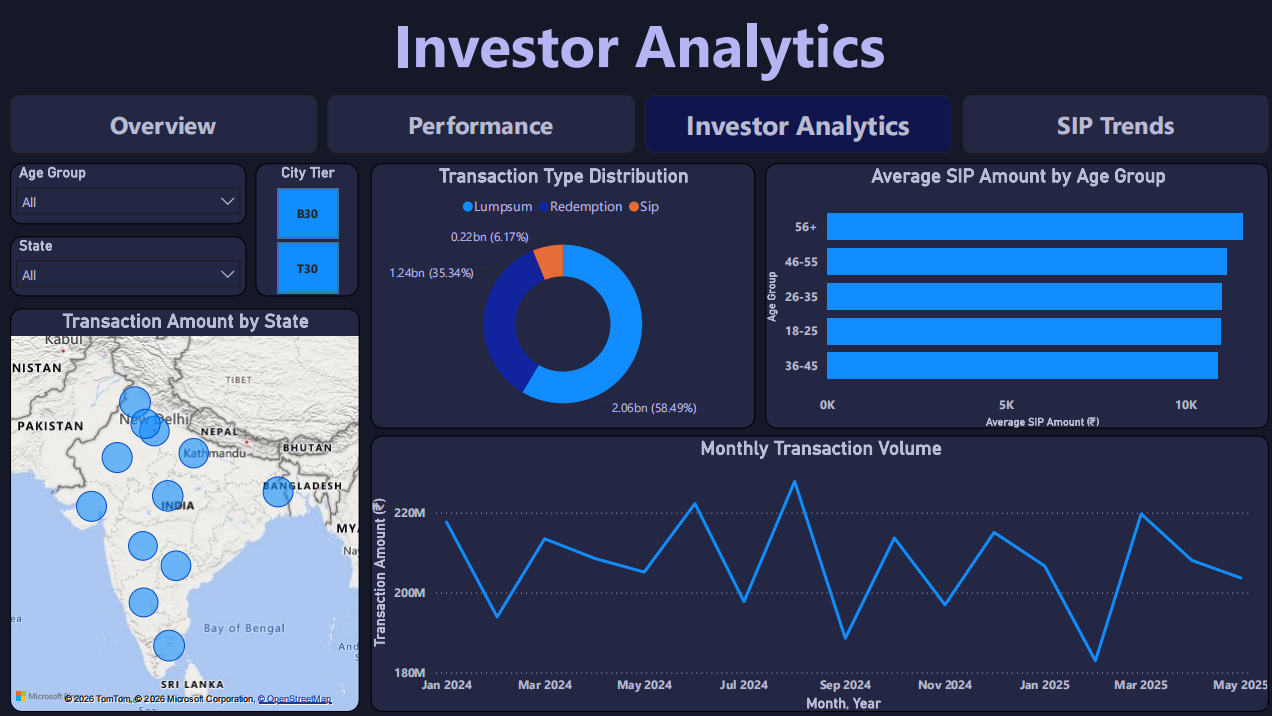

Layout of this report page (visuals, bound fields, positions):
{"tool":"powerbi","page":{"name":"Investor Analytics","canvas":[1280,720],"ordinal":2},"visuals":[{"type":"textbox","box":[98.6,0,1083.1,95.7],"z":0},{"type":"pageNavigator","box":[12.3,95.7,1257.7,58],"z":1000},{"type":"map","title":"Transaction Amount by State","fields":{"Category":["public fact_transactions.state"],"Size":["Sum(public fact_transactions.amount_inr)"]},"box":[12.3,309.2,348.5,402.5],"z":2000},{"type":"donutChart","title":"Transaction Type Distribution","fields":{"Category":["public fact_transactions.transaction_type"],"Y":["Sum(public fact_transactions.amount_inr)"]},"box":[371.8,164.4,384.1,265],"z":3000},{"type":"clusteredBarChart","title":"Average SIP Amount by Age Group","fields":{"Category":["public fact_transactions.age_group"],"Y":["Avg(public fact_transactions.amount_inr)"]},"box":[765.6,164.4,504.3,265],"z":4000},{"type":"lineChart","title":"Monthly Transaction Volume","fields":{"Category":["public fact_transactions.transaction_date.Variation.Date Hierarchy.Year","public fact_transactions.transaction_date.Variation.Date Hierarchy.Month"],"Y":["Sum(public fact_transactions.amount_inr)"]},"box":[371.8,435.6,898.2,276.1],"z":5000},{"type":"slicer","fields":{"Values":["public fact_transactions.state"]},"box":[12.3,236.8,235.6,60.1],"z":6000},{"type":"slicer","fields":{"Values":["public fact_transactions.age_group"]},"box":[12.3,164.4,235.6,60.1],"z":7000},{"type":"slicer","title":"City Tier","fields":{"Values":["public fact_transactions.city_tier"]},"box":[257,164.4,103.1,132.5],"z":8000}]}

Visuals, with their boxes in screenshot pixels (x1, y1, x2, y2), scaled from the page's 1280x720 canvas onto the 1272x716 screenshot:
textbox: 98,0,1174,95
pageNavigator: 12,95,1262,153
"Transaction Amount by State" map: 12,307,359,708
"Transaction Type Distribution" donutChart: 369,163,751,427
"Average SIP Amount by Age Group" clusteredBarChart: 761,163,1262,427
"Monthly Transaction Volume" lineChart: 369,433,1262,708
slicer - public fact_transactions.state: 12,235,246,295
slicer - public fact_transactions.age_group: 12,163,246,223
"City Tier" slicer: 255,163,358,295
